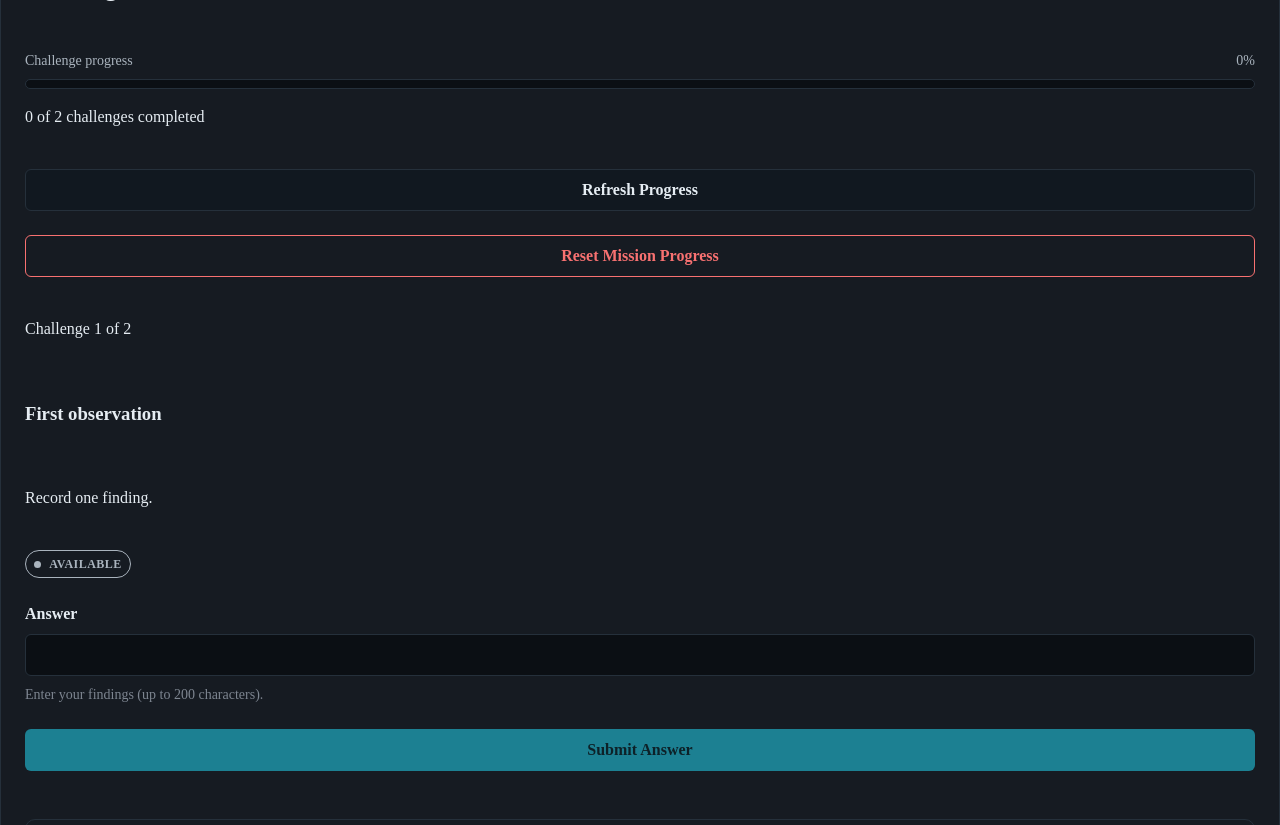
Scenario: refreshes backend progress after correctness and moves to the unlocked challenge
Type "fixture observation" into the field labelled "Answer" at (640, 655), box [25,634,1255,676]
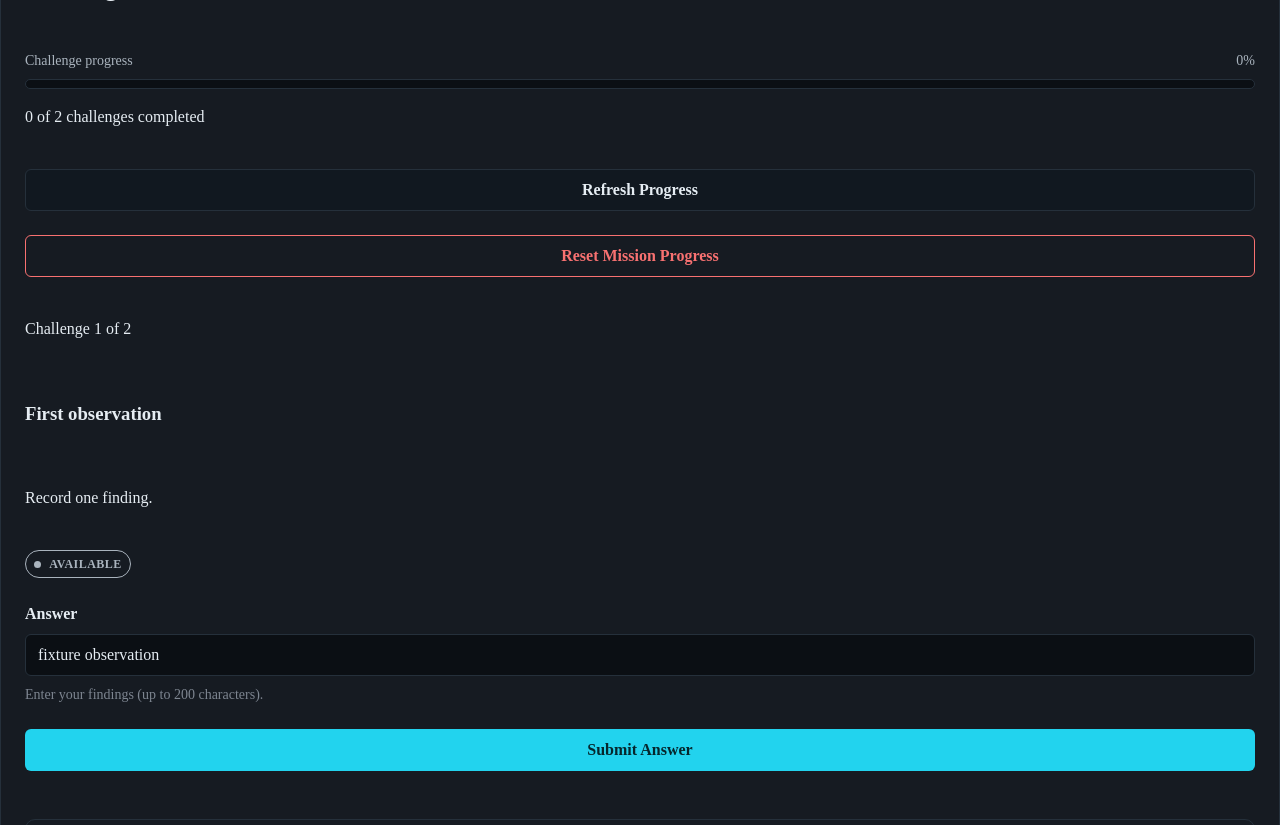
Click the button "Submit Answer" at (640, 750), box [25,729,1255,771]
(page scrolled)
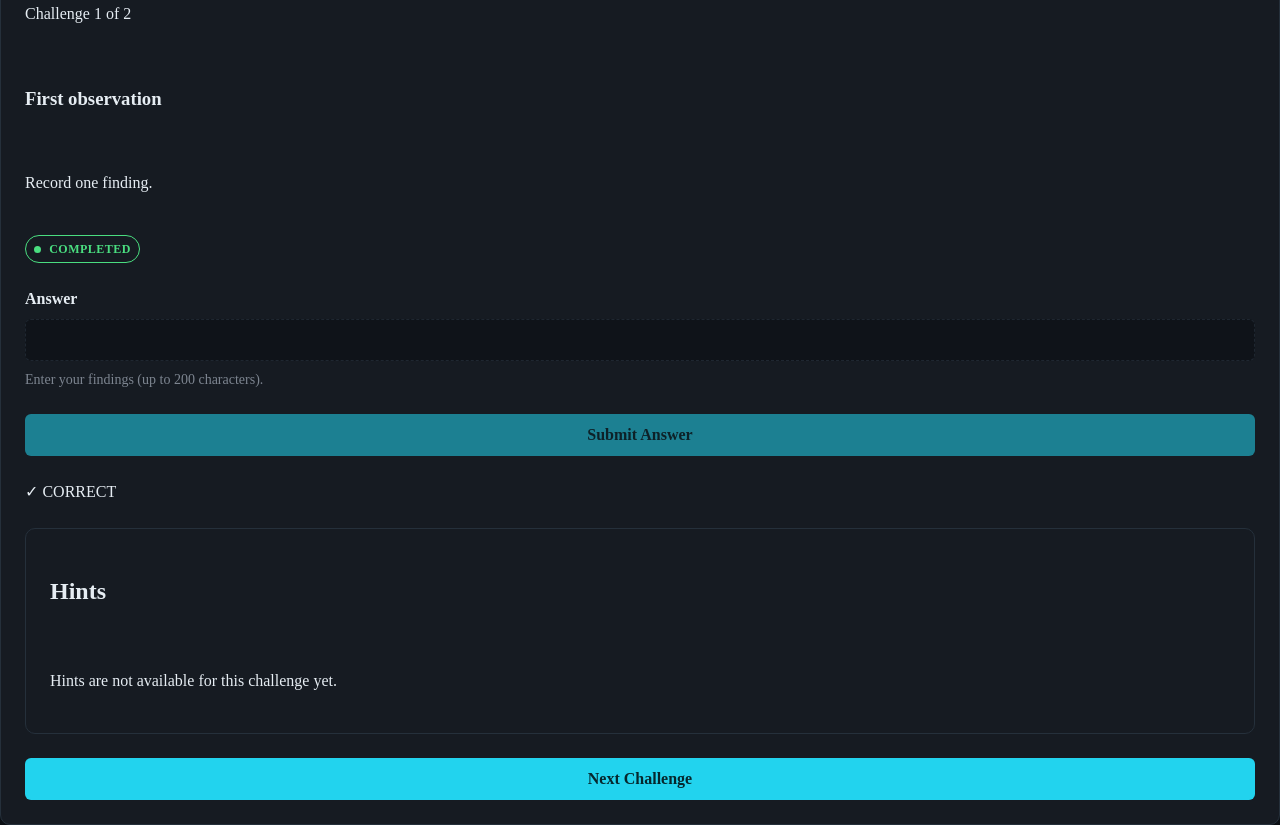
Expected: the text "✓ CORRECT" is shown, [25,483,116,500]
Click the button "Next Challenge" at (640, 779), box [25,758,1255,800]
(page scrolled)
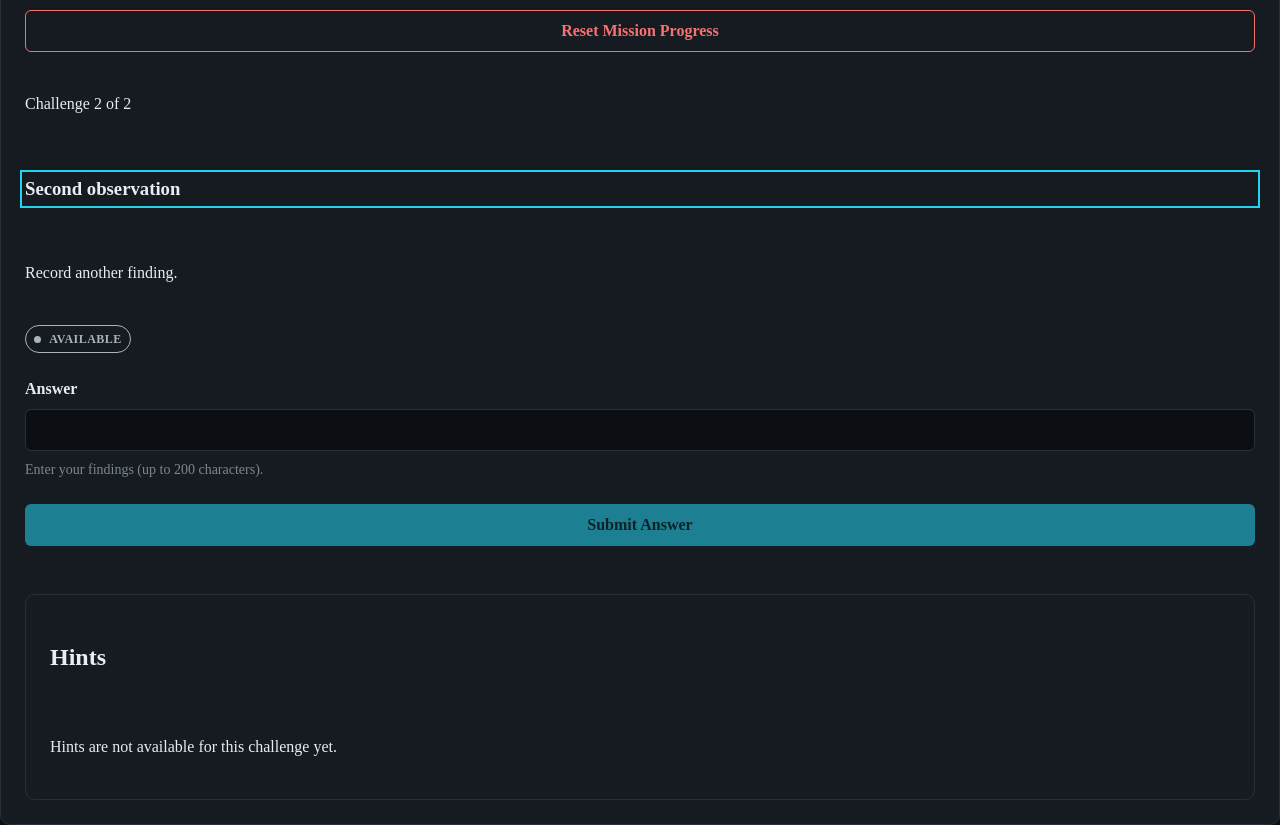
Expected: the field is empty, [25,409,1255,451]
Expected: the text "Challenge 2 of 2" is shown, [25,95,131,112]
